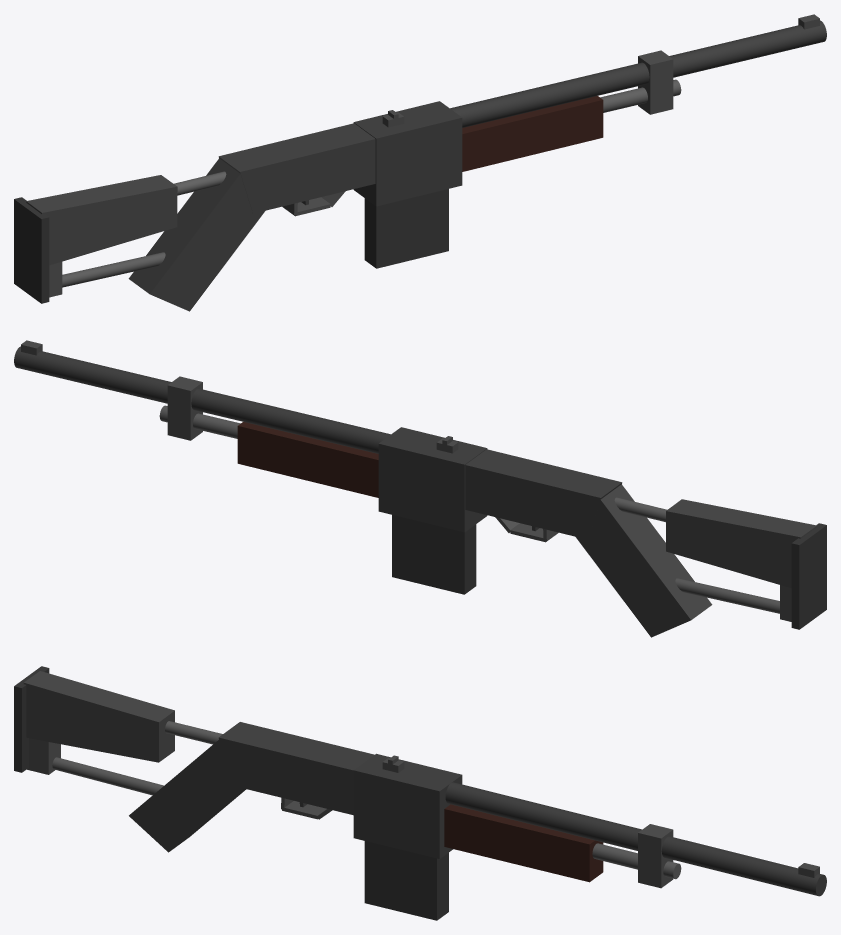
Rendered from 初期武器.fbx.
The picture shows the model from 3 angles, top to bottom: view 1: azimuth 30°, elevation 25°; view 2: azimuth 150°, elevation 25°; view 3: azimuth 330°, elevation 25°; orthographic projection.
Parts seen in each view (by area): view 1: pCube3, pCube1, pCube4, pCube8, pCylinder1, pCube2, pCube10, pCube11, pCube9, pasted__pCylinder2, pasted__pCylinder1, pCylinder2; view 2: pCube3, pCube1, pCube4, pCube8, pCylinder1, pCube2, pCube10, pCube11, pCube9, pasted__pCylinder2, pasted__pCylinder1, pCylinder2; view 3: pCube4, pCube1, pCylinder1, pCube8, pCube2, pCube3, pCube10, pCube9, pasted__pCylinder2, pCube11, pasted__pCylinder1, pCube12 (+1 smaller).
Boxes of the visible parts, x1,y1,x2,y2 form: pCube3: [128, 158, 265, 311]; pCube1: [218, 123, 375, 213]; pCube4: [26, 175, 177, 265]; pCube8: [353, 101, 462, 206]; pCylinder1: [450, 20, 826, 127]; pCube2: [462, 96, 603, 171]; pCube10: [364, 189, 448, 268]; pCube11: [14, 197, 49, 303]; pCube9: [638, 50, 673, 114]; pasted__pCylinder2: [62, 252, 165, 287]; pasted__pCylinder1: [600, 79, 681, 112]; pCylinder2: [174, 171, 226, 195]; pCube3: [575, 484, 712, 637]; pCube1: [465, 449, 622, 539]; pCube4: [666, 499, 817, 588]; pCube8: [378, 427, 487, 532]; pCylinder1: [14, 346, 390, 453]; pCube2: [237, 422, 378, 497]; pCube10: [392, 515, 476, 594]; pCube11: [791, 523, 826, 629]; pCube9: [167, 376, 202, 440]; pasted__pCylinder2: [675, 578, 779, 613]; pasted__pCylinder1: [159, 405, 240, 438]; pCylinder2: [614, 497, 667, 522]; pCube4: [23, 671, 174, 762]; pCube1: [218, 722, 374, 815]; pCylinder1: [445, 782, 826, 896]; pCube8: [353, 753, 462, 858]; pCube2: [444, 804, 603, 882]; pCube3: [129, 740, 246, 852]; pCube10: [364, 841, 448, 920]; pCube9: [638, 824, 673, 888]; pasted__pCylinder2: [52, 757, 163, 795]; pCube11: [14, 666, 49, 772]; pasted__pCylinder1: [592, 843, 681, 879]; pCube12: [27, 738, 60, 774].
Bounding box in the file's own units: 16.66 × 2.93 × 1.
